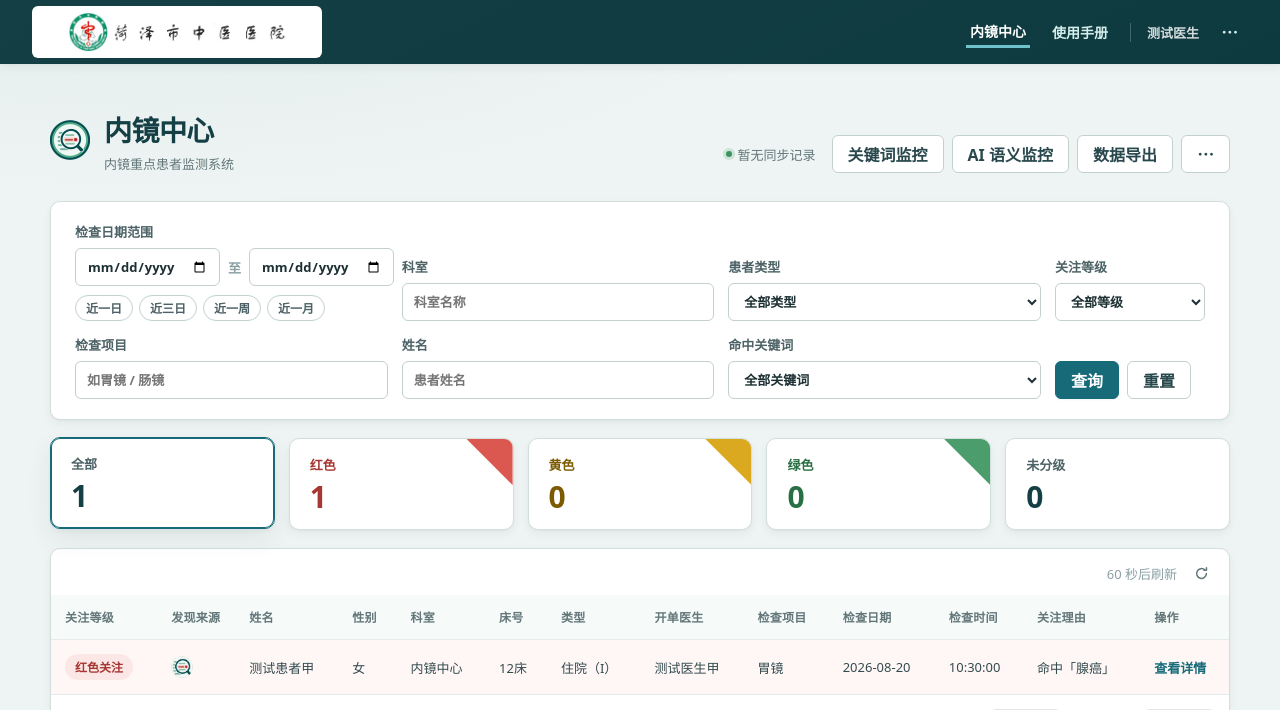
Test: App › shows and opens the export modal for a patientDetail account (issue #139)
This screenshot has width=1280, height=710.
expect the text "测试患者甲" is shown: met, box [235,640,338,694]
Issue #114's rule: the entry reads exactly like the modal it opens.
Click the button "数据导出".
click(1125, 154)  # box [1077,135,1173,173]
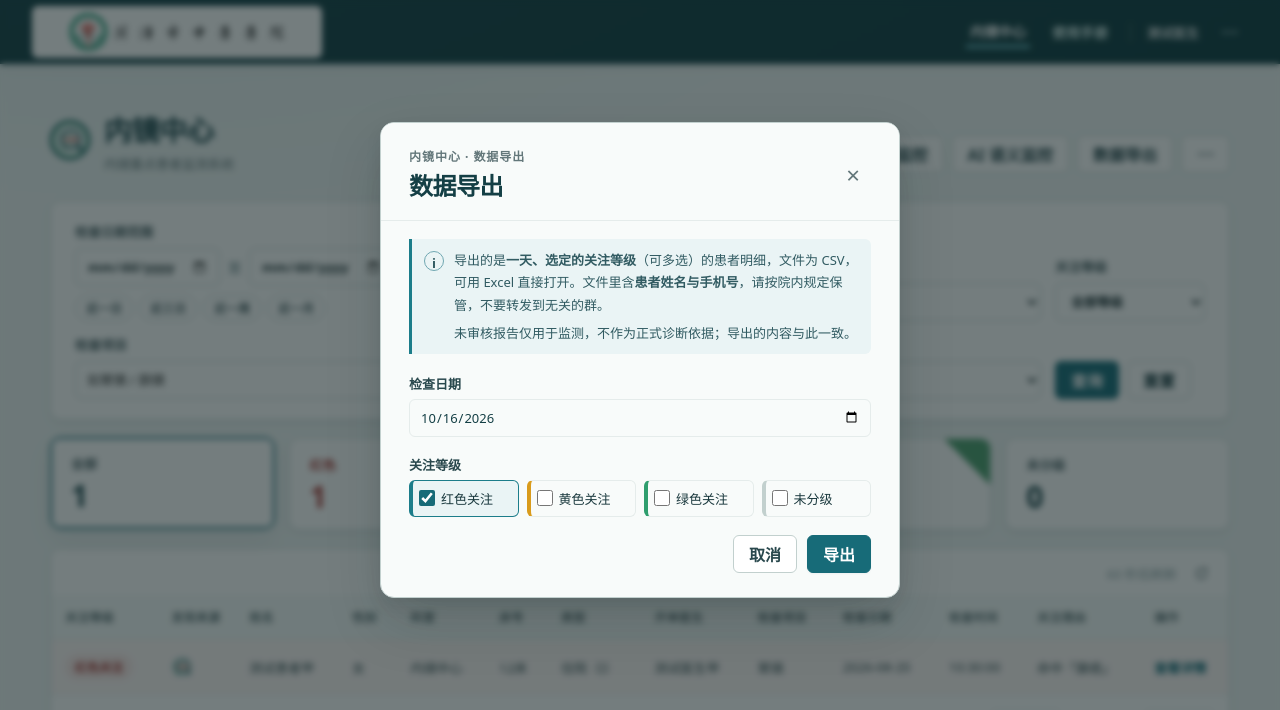
expect the heading "内镜中心" is shown: met, box [104,111,214,149]
expect the dialog "数据导出" is shown: met, box [380,122,900,598]
